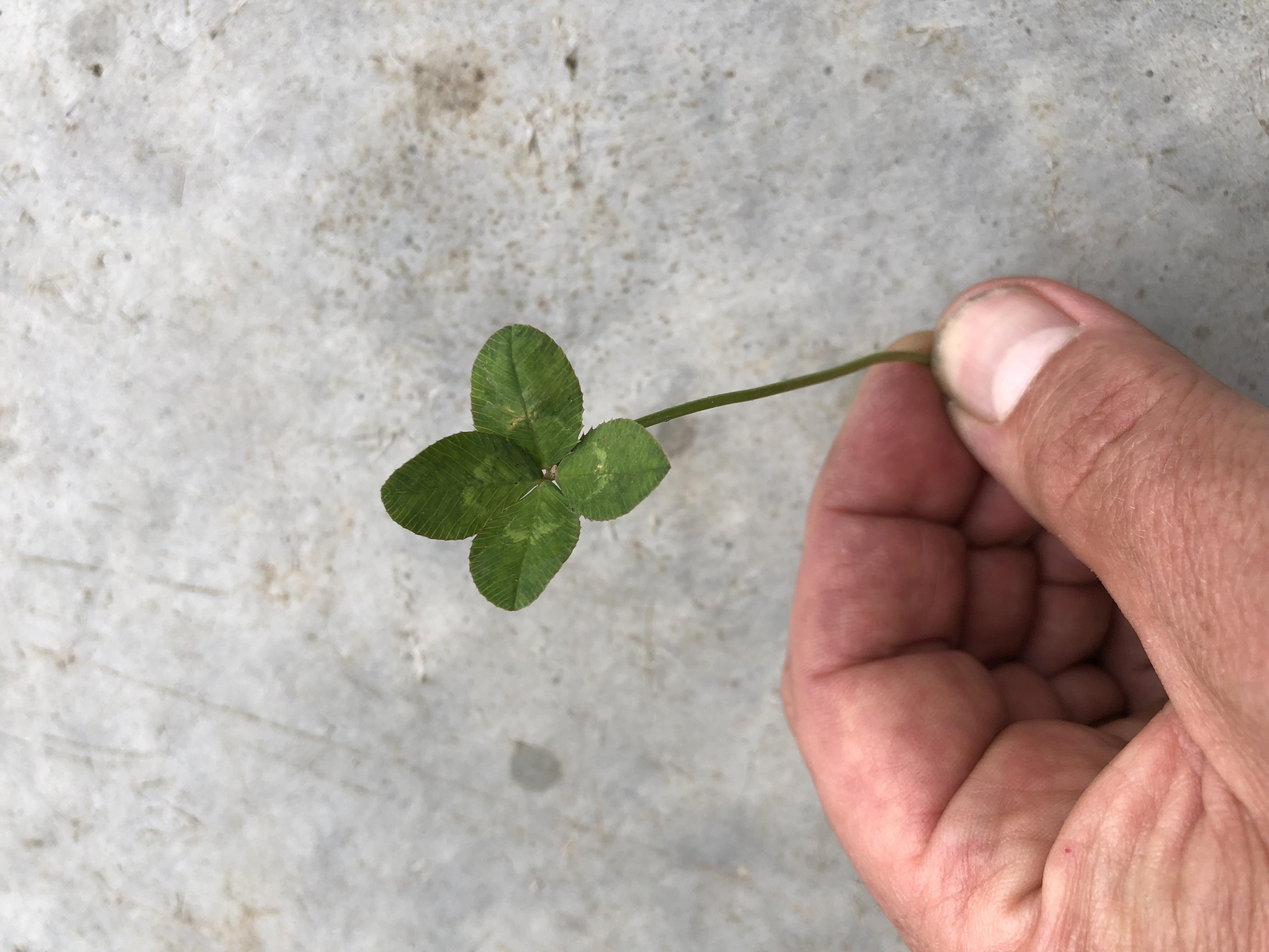4-Leaf-Clovers: (382, 322, 669, 615)
